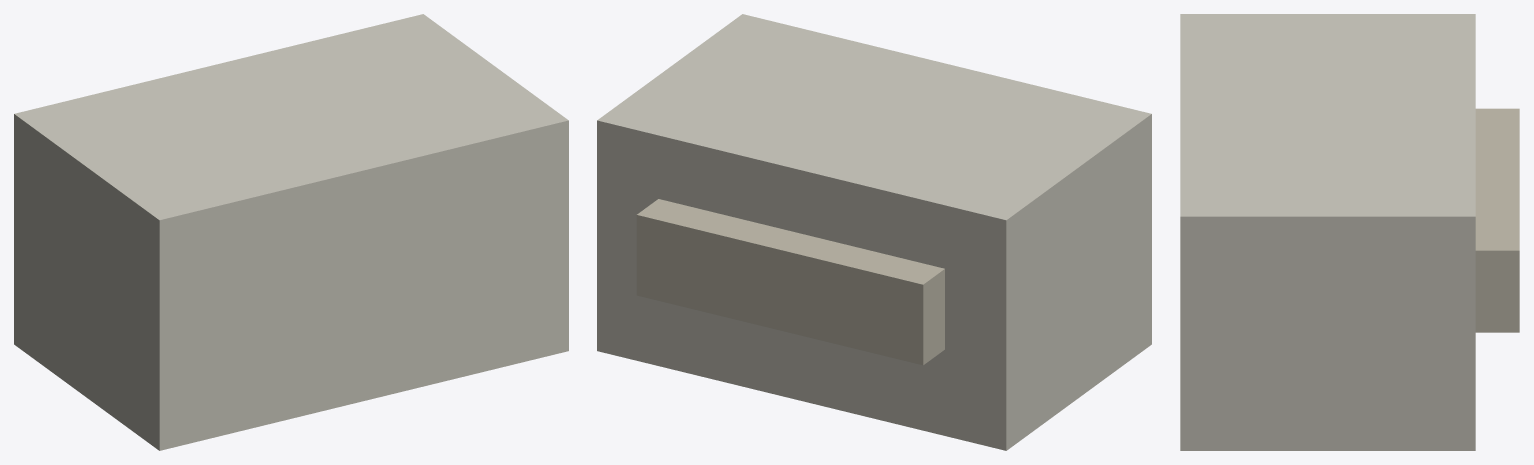
The model's file is medicine.glb.
3 renders of one model, left to right at view 1: azimuth 30°, elevation 25°; view 2: azimuth 150°, elevation 25°; view 3: azimuth 270°, elevation 25°, orthographic.
Visible parts, largest first — view 1: body; view 2: body; view 3: body.
Boxes of the visible parts, left/top/right/bottom form: body: left=14, top=14, right=568, bottom=450; body: left=597, top=14, right=1151, bottom=450; body: left=1180, top=14, right=1519, bottom=450.
Size of the model in its own units: 0.13 by 0.07 by 0.092.
